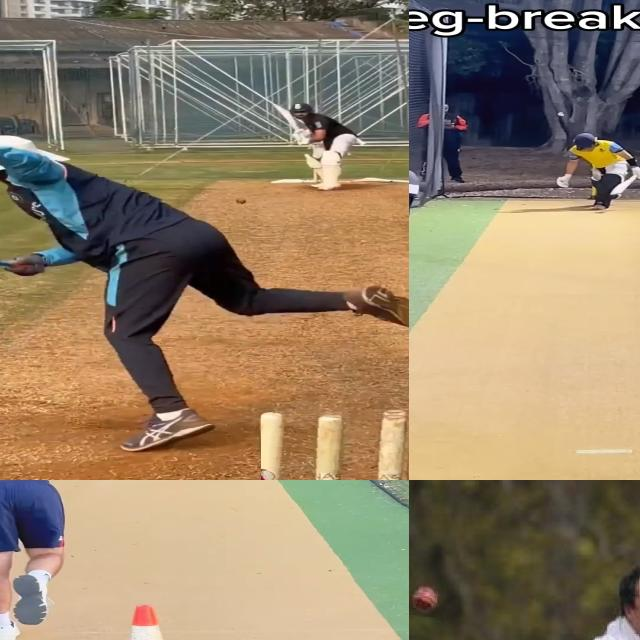Cricket ball: (261, 409, 409, 480), (409, 578, 445, 617), (236, 197, 247, 204), (556, 112, 565, 116)
